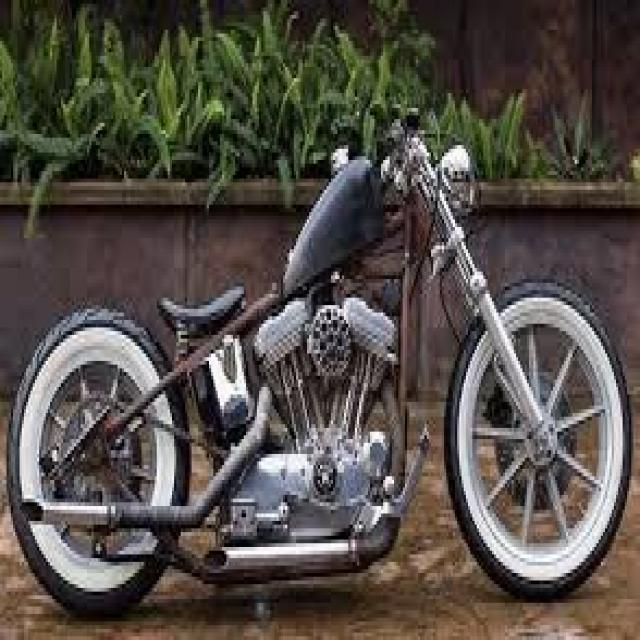Bike: (11, 105, 637, 634)
